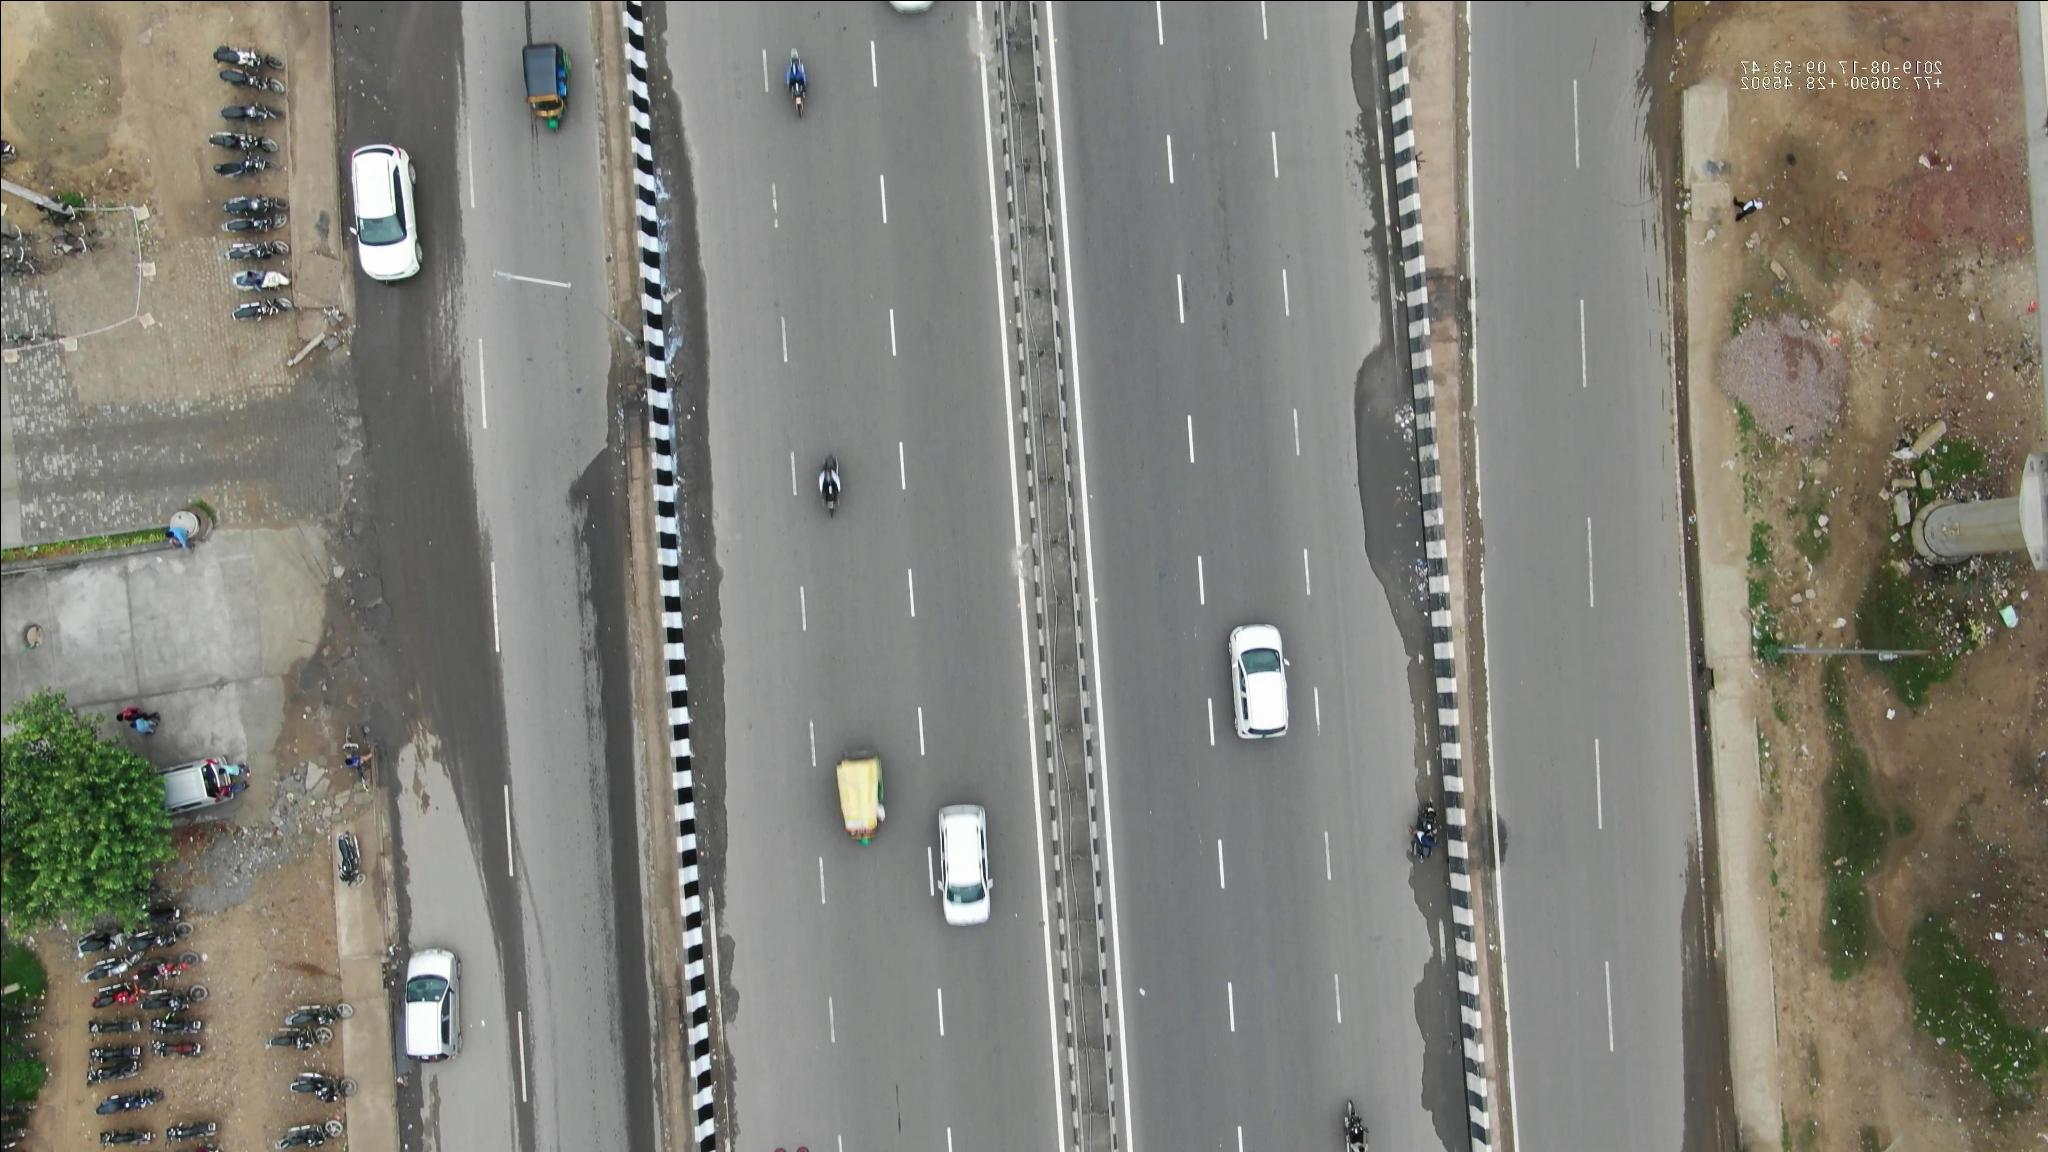Waterlogging: (302, 409, 489, 748), (1331, 318, 1431, 632)
